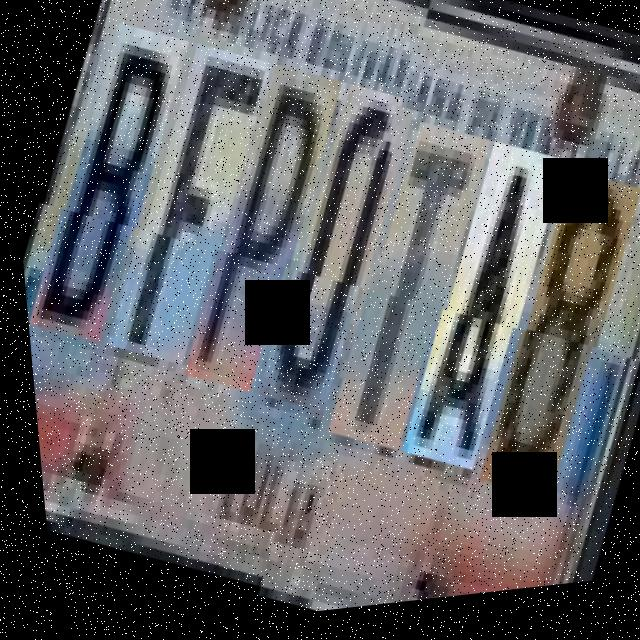0: (232, 95, 432, 434)
8: (452, 178, 640, 519)
A: (376, 147, 582, 488)
B: (4, 28, 206, 361)
F: (83, 51, 288, 385)
P: (157, 74, 358, 413)
T: (303, 126, 508, 467)
